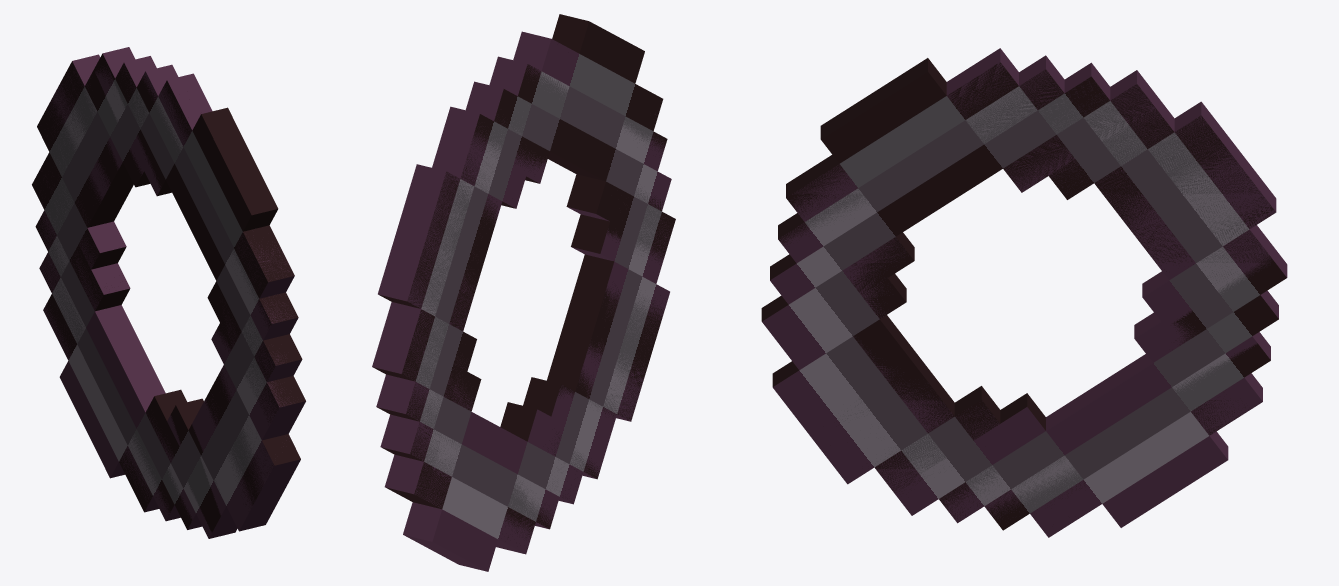
File: netherite_chakram.glb
The picture shows the model from 3 angles, left to right: view 1: azimuth 30°, elevation 25°; view 2: azimuth 150°, elevation 25°; view 3: azimuth 270°, elevation 25°; orthographic projection. The views are drawn at different scales.
Parts seen in each view (by area): view 1: main__Tool_R, off__Tool_L; view 2: off__Tool_L, main__Tool_R; view 3: main__Tool_R, off__Tool_L.
Part boxes in pixels (bbox=[...]): main__Tool_R: bbox=[32, 53, 305, 538]; off__Tool_L: bbox=[34, 47, 305, 532]; off__Tool_L: bbox=[372, 14, 675, 567]; main__Tool_R: bbox=[372, 21, 674, 571]; main__Tool_R: bbox=[762, 63, 1286, 537]; off__Tool_L: bbox=[761, 48, 1287, 530].
Bounding box in the file's own units: 0.0531 × 0.9749 × 0.9749.
Materials: 1 (1 with a texture image).
